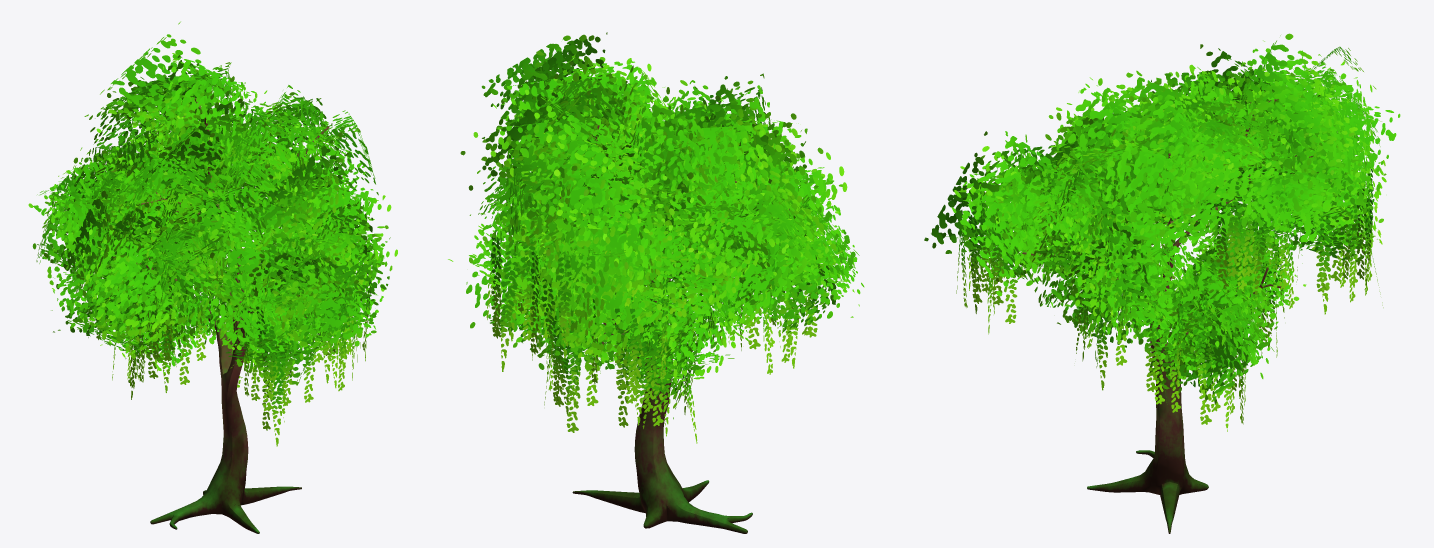
Rendered from tree 1.fbx.
The picture shows the model from 3 angles, left to right: view 1: azimuth 30°, elevation 25°; view 2: azimuth 150°, elevation 25°; view 3: azimuth 270°, elevation 25°; orthographic projection. The views are drawn at different scales.
Parts seen in each view (by area): view 1: Plane_337, Plane_474, Plane_495_8_0; view 2: Plane_337, Plane_474, Plane_495_8_0; view 3: Plane_337, Plane_474, Plane_495_8_0.
Part boxes in pixels (x1,y1,x2,y2): Plane_337: (28, 21, 397, 391); Plane_474: (77, 151, 372, 446); Plane_495_8_0: (113, 98, 329, 533); Plane_337: (448, 32, 864, 419); Plane_474: (486, 94, 817, 443); Plane_495_8_0: (559, 96, 789, 533); Plane_337: (924, 33, 1400, 404); Plane_474: (956, 169, 1383, 431); Plane_495_8_0: (1022, 99, 1312, 533).
Bounding box in the file's own units: 405 × 489 × 479.
